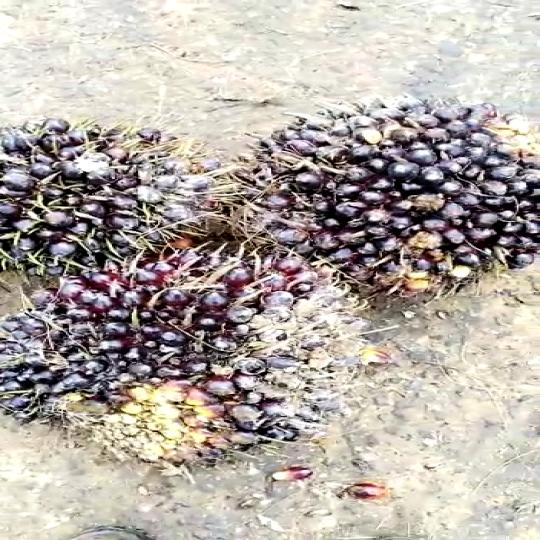mentah: (0, 244, 344, 478), (237, 94, 540, 290), (0, 107, 228, 294)
